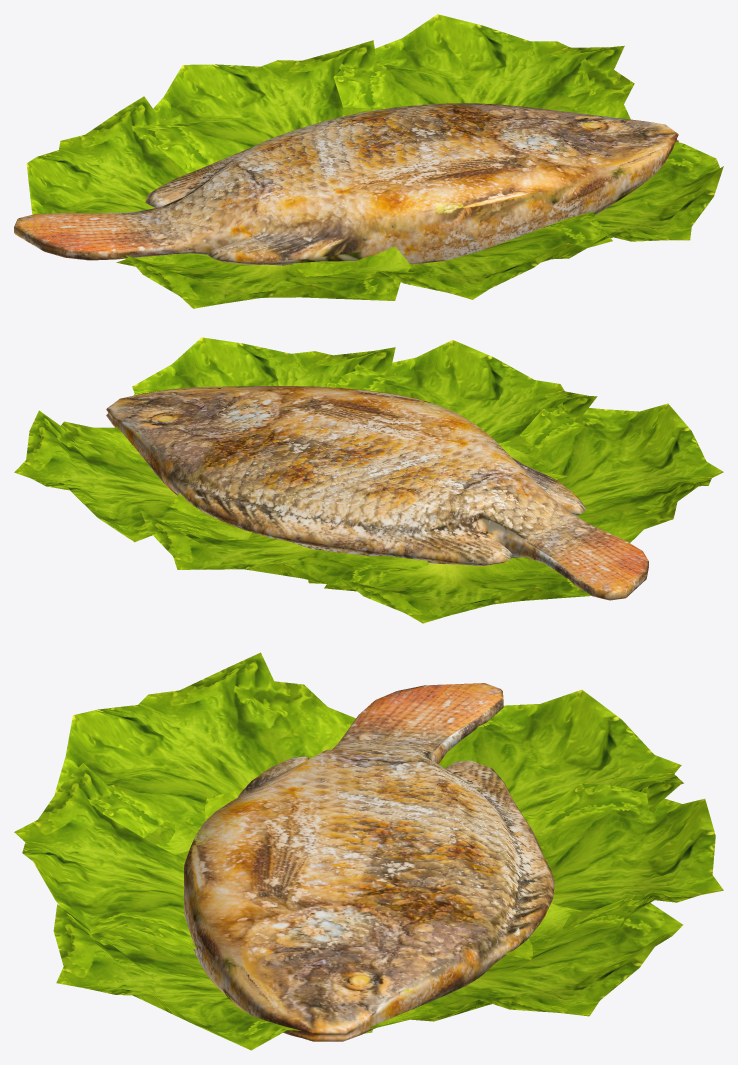
File: Ikan Goreng.fbx
The picture shows the model from 3 angles, top to bottom: view 1: azimuth 30°, elevation 25°; view 2: azimuth 150°, elevation 25°; view 3: azimuth 270°, elevation 25°; orthographic projection. The views are drawn at different scales.
Visible parts, largest first — view 1: Ikan Goreng; view 2: Ikan Goreng; view 3: Ikan Goreng.
Boxes of the visible parts, x1,y1,x2,y2 form: Ikan Goreng: [14, 14, 723, 308]; Ikan Goreng: [14, 337, 723, 623]; Ikan Goreng: [14, 652, 723, 1050].
Bounding box in the file's own units: 27.99 × 3.58 × 23.5.
Materials: 1 (1 with a texture image).
